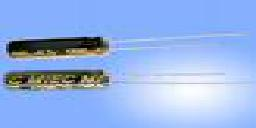Electrolytic-Capacitor: (5, 31, 253, 60), (1, 67, 256, 93)
